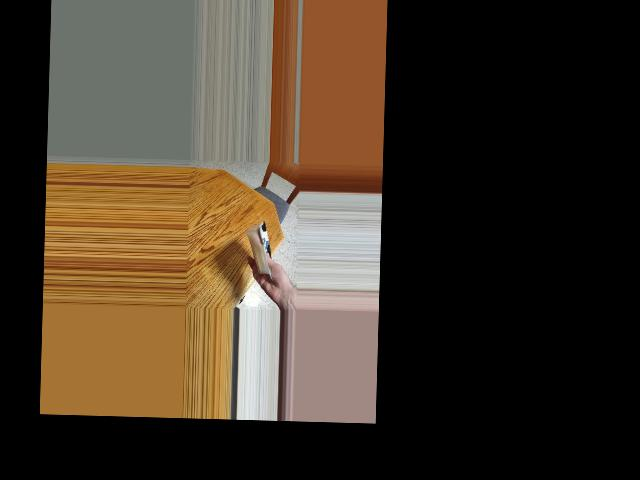cheese: (240, 223, 285, 275)
